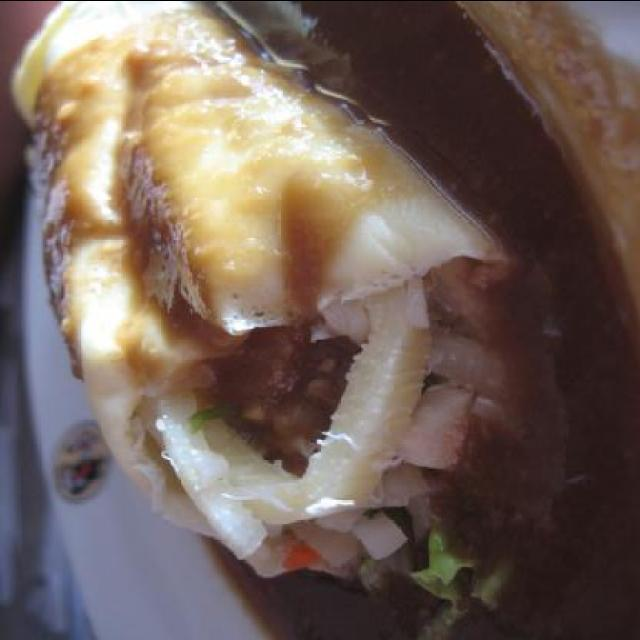Sandwich: (8, 0, 570, 640)
